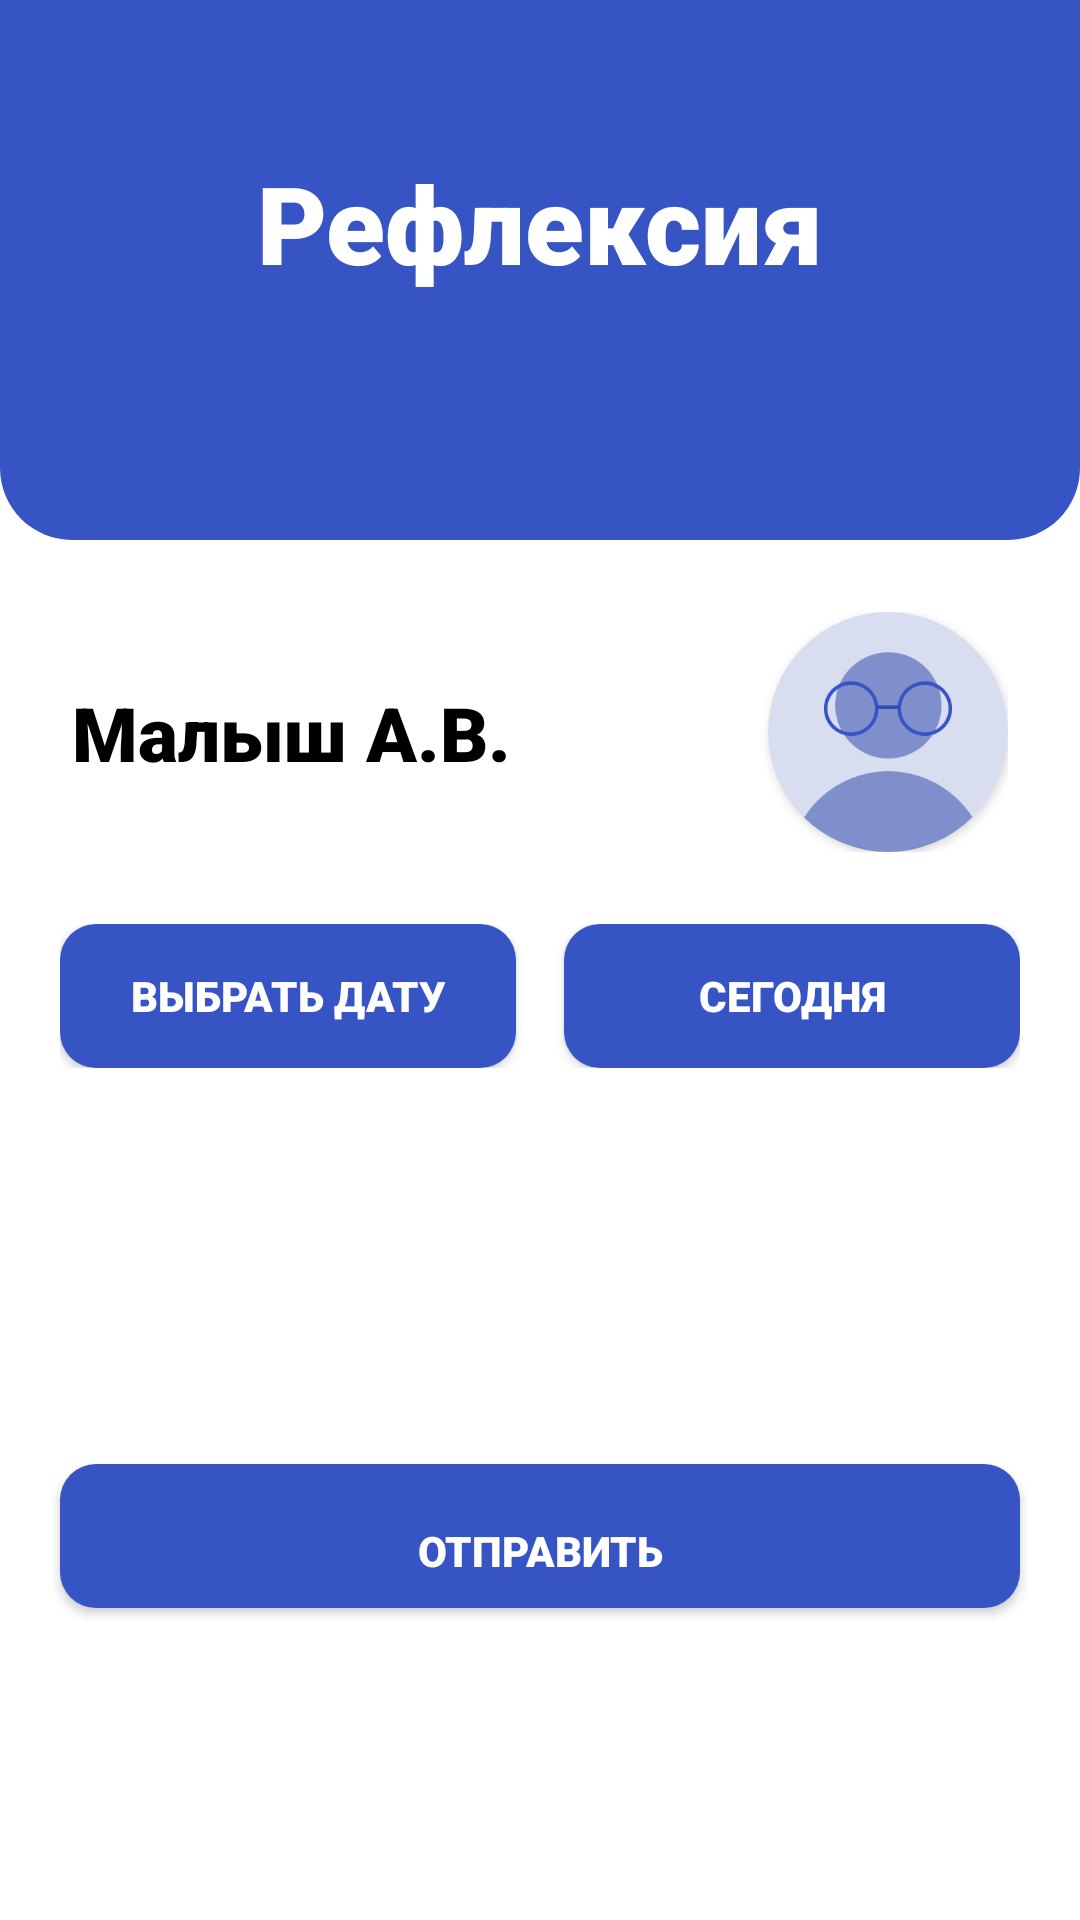

Named icons in this screenshot (1080px x 1920px) and their centers, (x,y):
userphoto: (888,732)
